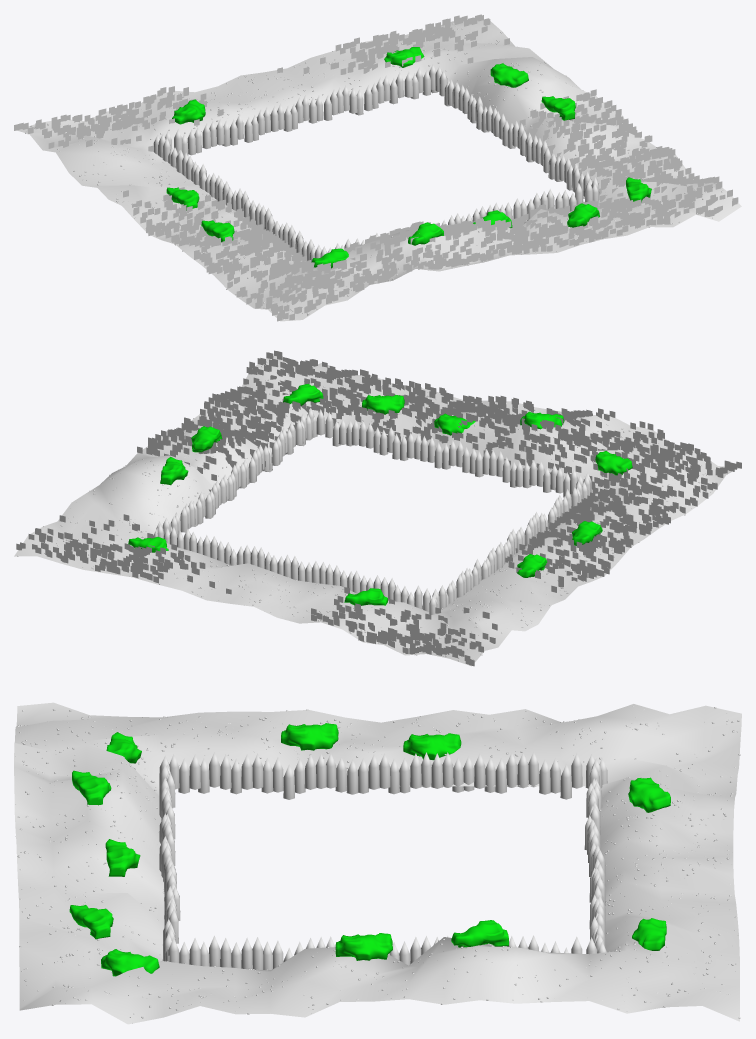
The picture shows the model from 3 angles, top to bottom: view 1: azimuth 30°, elevation 25°; view 2: azimuth 150°, elevation 25°; view 3: azimuth 270°, elevation 25°; orthographic projection. The views are drawn at different scales.
Parts seen in each view (by area): view 1: Background, Vegetation, Circle, Cube.010; view 2: Background, Vegetation, Circle, Cube.010; view 3: Background, Circle, Cube.010, Vegetation.
Boxes of the visible parts, x1,y1,x2,y2 form: Background: (17, 20, 741, 321); Vegetation: (14, 14, 738, 321); Circle: (153, 64, 599, 269); Cube.010: (166, 47, 651, 268); Background: (14, 356, 738, 666); Vegetation: (16, 350, 741, 666); Circle: (153, 408, 591, 614); Cube.010: (128, 383, 632, 605); Background: (14, 702, 741, 1024); Circle: (159, 751, 607, 969); Cube.010: (69, 723, 670, 976); Vegetation: (15, 706, 740, 1023).
Bounding box in the file's own units: 8138 × 888 × 8062.
